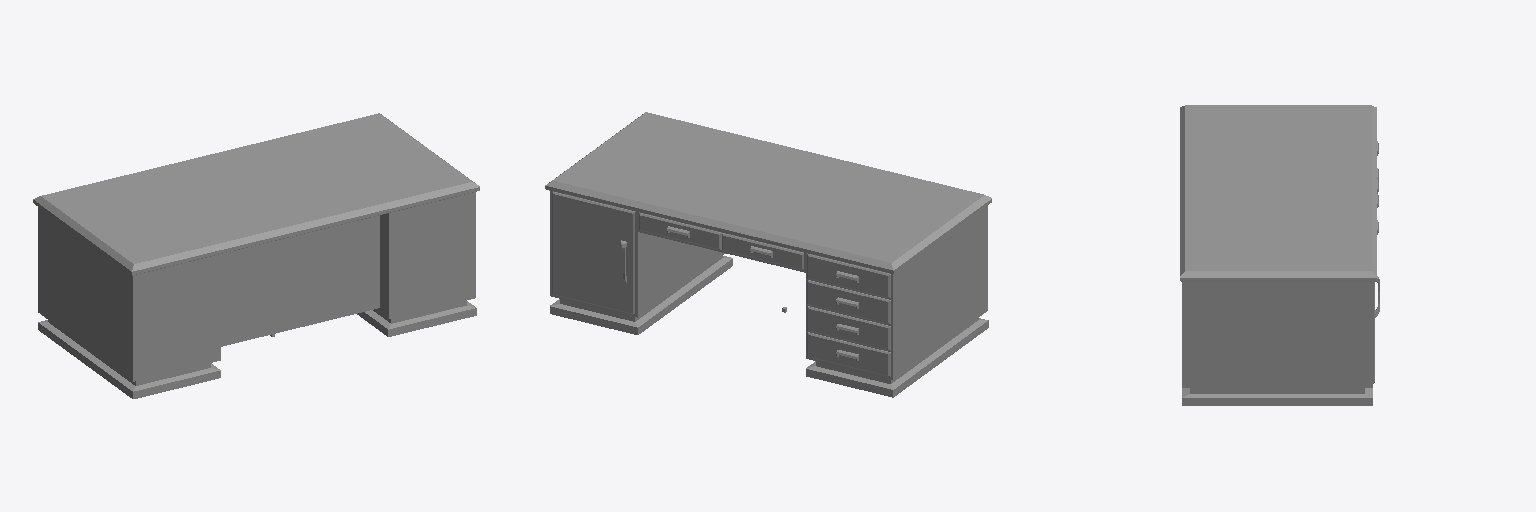
The model's file is desknormal.obj.
3 views of the same model, side by side, from view 1: azimuth 30°, elevation 25°; view 2: azimuth 150°, elevation 25°; view 3: azimuth 270°, elevation 25° (orthographic).
Parts seen in each view (by area): view 1: Desk; view 2: Desk; view 3: Desk.
Boxes of the visible parts, <box> form: Desk: <box>33,113,479,398</box>; Desk: <box>545,112,991,397</box>; Desk: <box>1180,105,1379,405</box>.
Bounding box in the file's own units: 196 × 73.01 × 97.99.